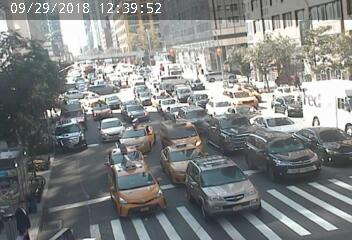car: (182, 162, 256, 218), (247, 131, 312, 172), (111, 170, 164, 203), (305, 124, 351, 157), (160, 119, 207, 150), (160, 146, 204, 176), (208, 115, 249, 143), (254, 114, 300, 135), (51, 126, 90, 150), (161, 72, 206, 89), (96, 120, 126, 143), (121, 125, 152, 147), (230, 87, 264, 107), (108, 147, 143, 166), (272, 96, 304, 114), (180, 107, 208, 126), (207, 98, 236, 116), (122, 103, 150, 118), (89, 102, 111, 120), (88, 84, 122, 95), (134, 85, 152, 105), (189, 90, 211, 104), (106, 92, 124, 109), (168, 102, 186, 117), (176, 87, 195, 100), (157, 99, 174, 110), (154, 92, 166, 101)
